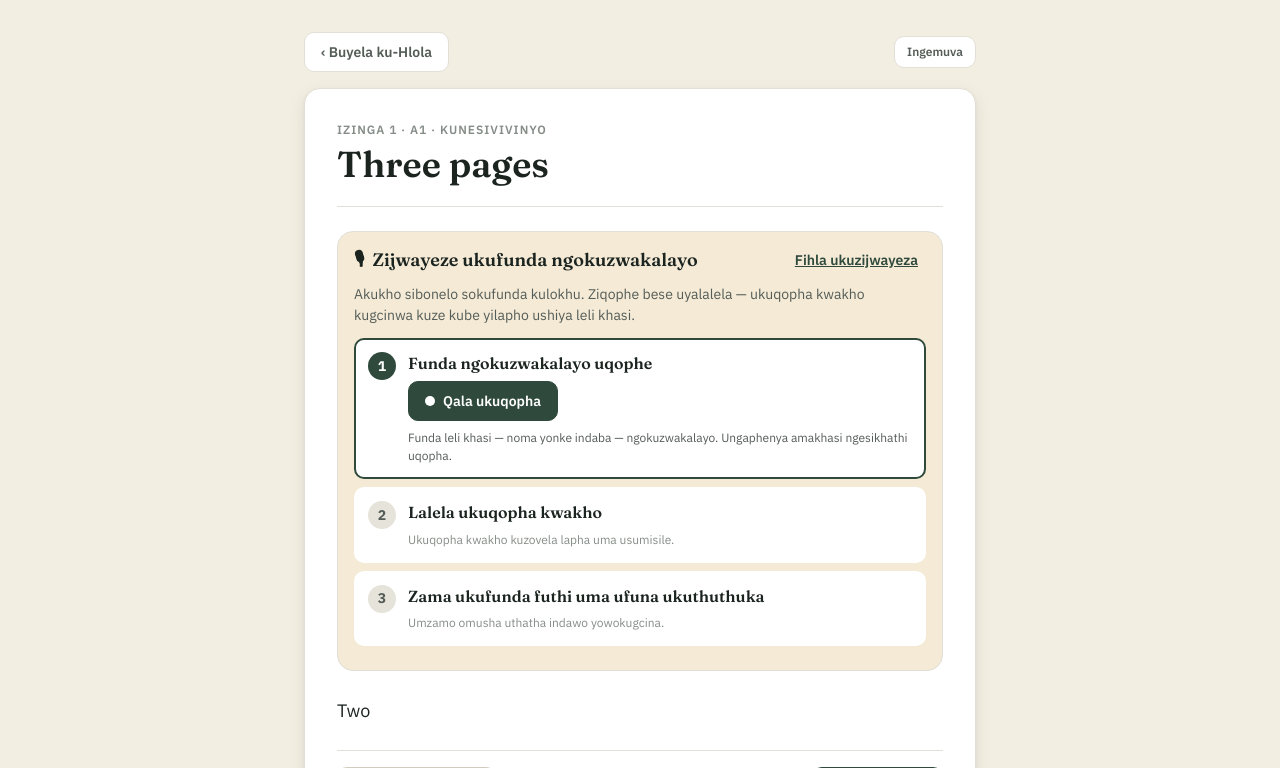
Test: ReaderScreen › in isiZulu: the toolbar, page count, recording bar and wallpaper picker are in isiZulu
The image size is (1280, 768).
Click the button "Ingemuva". click: [935, 52]
box: [894,36,976,68]
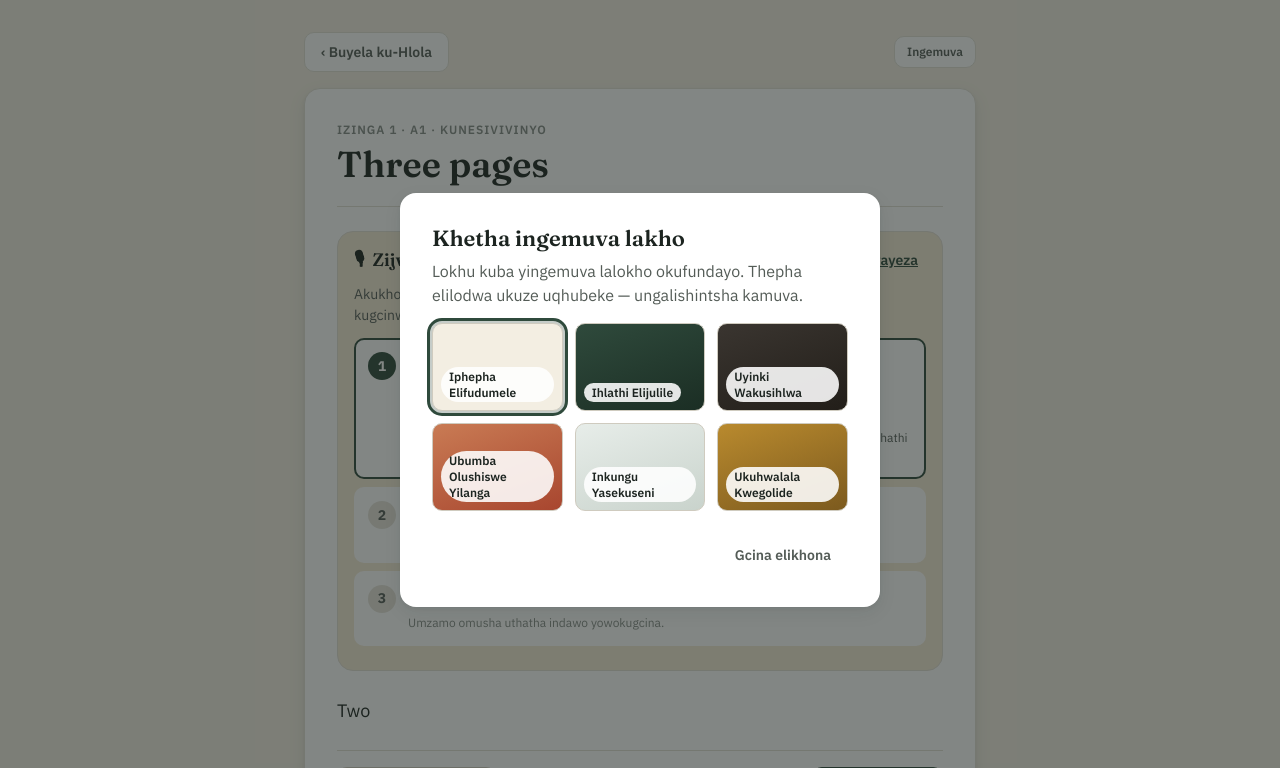
Check: the text "Khetha ingemuva lakho" is shown, box [432,224,685,252]
Check: the text "Iphepha Elifudumele" is shown, box [441,367,554,402]
